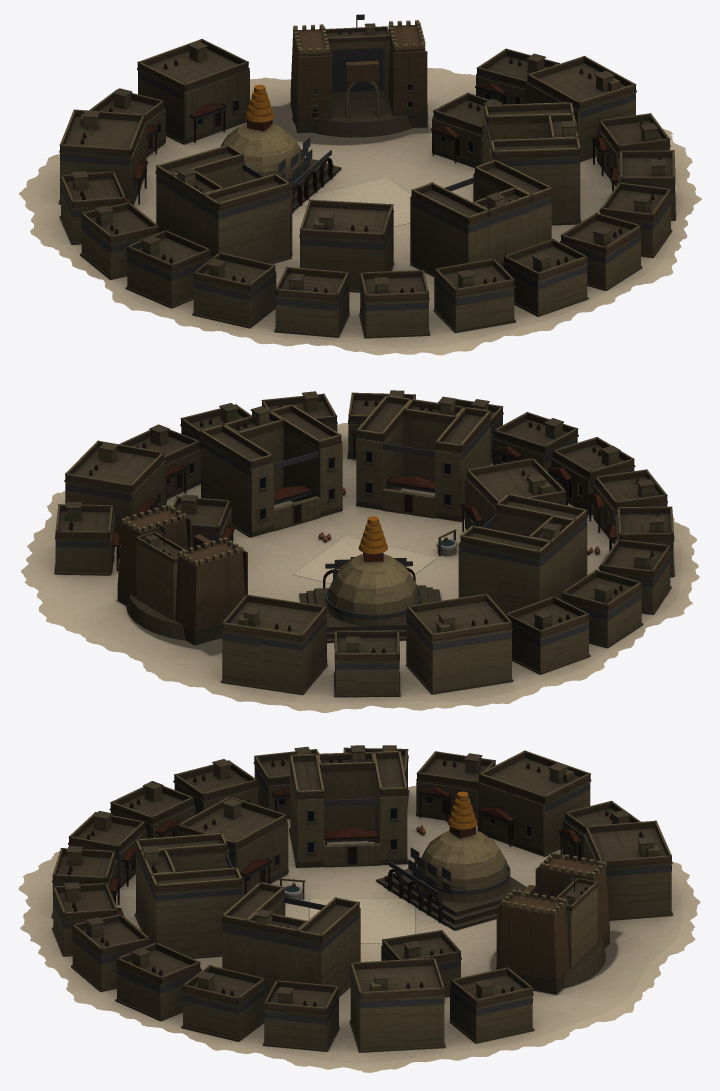
File: classical-town-big-b-steppe-0e55d112.glb
3 views of the same model, one above another, from view 1: azimuth 30°, elevation 25°; view 2: azimuth 150°, elevation 25°; view 3: azimuth 270°, elevation 25° (orthographic).
Parts seen in each view (by area): view 1: LOD0; view 2: LOD0; view 3: LOD0.
Part boxes in pixels (x1=…): LOD0: x1=18, y1=14, x2=701, y2=355; LOD0: x1=21, y1=390, x2=699, y2=713; LOD0: x1=18, y1=745, x2=700, y2=1072.
Size of what is drawn, in the model's own units: 7.96 by 1.27 by 7.89.
Materials: 3 (3 with a texture image).
